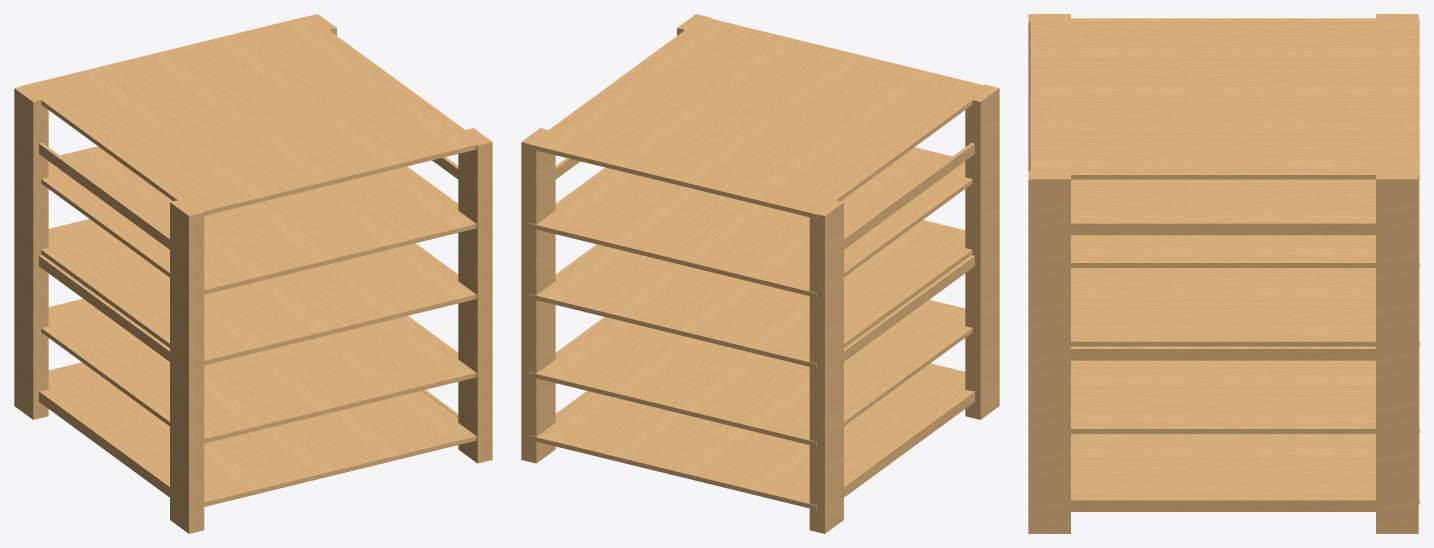
Rendered from sh-contrib-pinewood-rack-medium-height.glb.
3 renders of one model, left to right at view 1: azimuth 30°, elevation 25°; view 2: azimuth 150°, elevation 25°; view 3: azimuth 270°, elevation 25°, orthographic. The views are drawn at different scales.
Visible parts, largest first — view 1: rack; view 2: rack; view 3: rack.
Boxes of the visible parts, box(x1,y1,x2,y2) form: rack: box(14, 14, 492, 533); rack: box(521, 14, 999, 533); rack: box(1028, 14, 1419, 533).
Bounding box in the file's own units: 1 × 1 × 1.
Materials: 1 (1 with a texture image).
